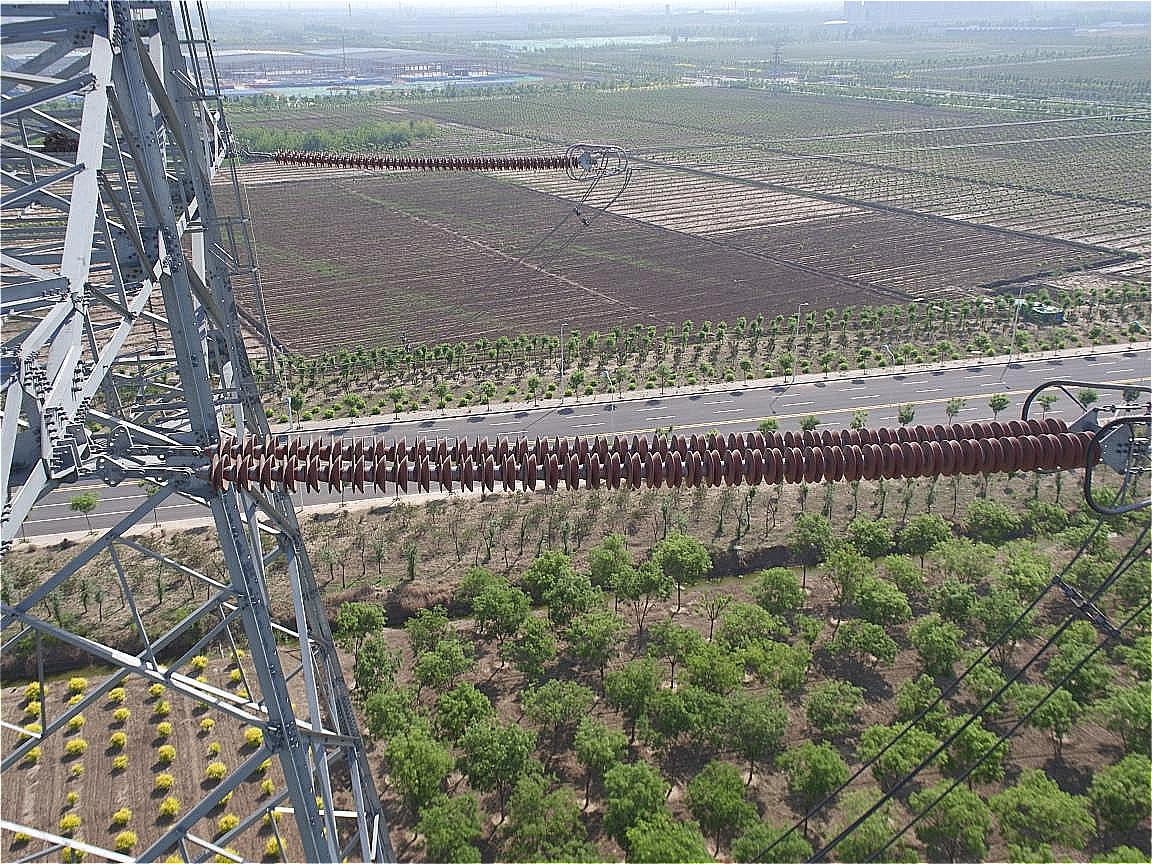insultor2: (160, 418, 1123, 505)
